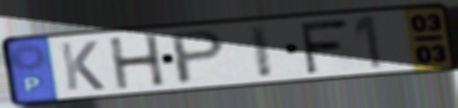1: (349, 14, 385, 73)
F: (296, 17, 351, 76)
H: (105, 32, 168, 92)
I: (246, 22, 276, 80)
K: (57, 39, 108, 93)
P: (169, 27, 229, 87)
